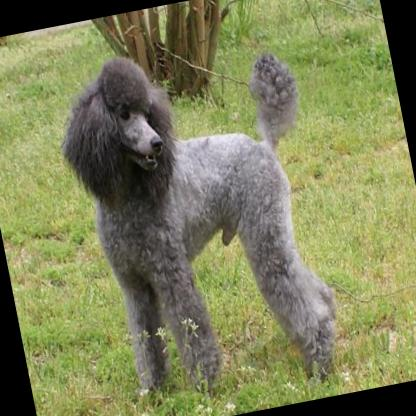miniature_poodle: (40, 20, 353, 416)
